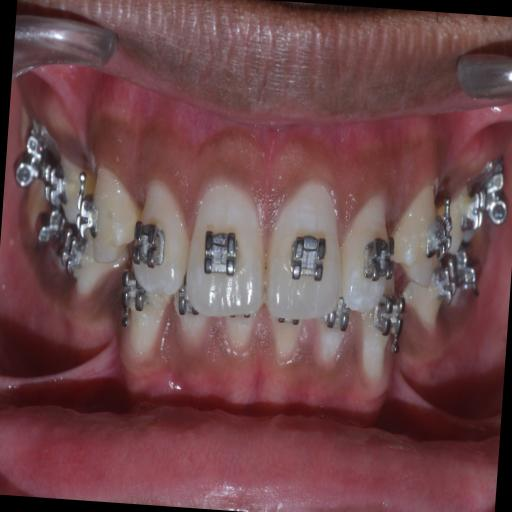correct_brace: (286, 216, 334, 292), (201, 220, 243, 285), (133, 214, 169, 272), (360, 230, 394, 288)
incorrect_brace: (132, 180, 192, 292), (343, 192, 399, 310)
